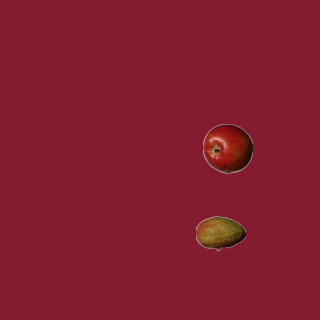Apple Braeburn: (202, 123, 252, 173)
Papaya: (195, 208, 245, 258)
